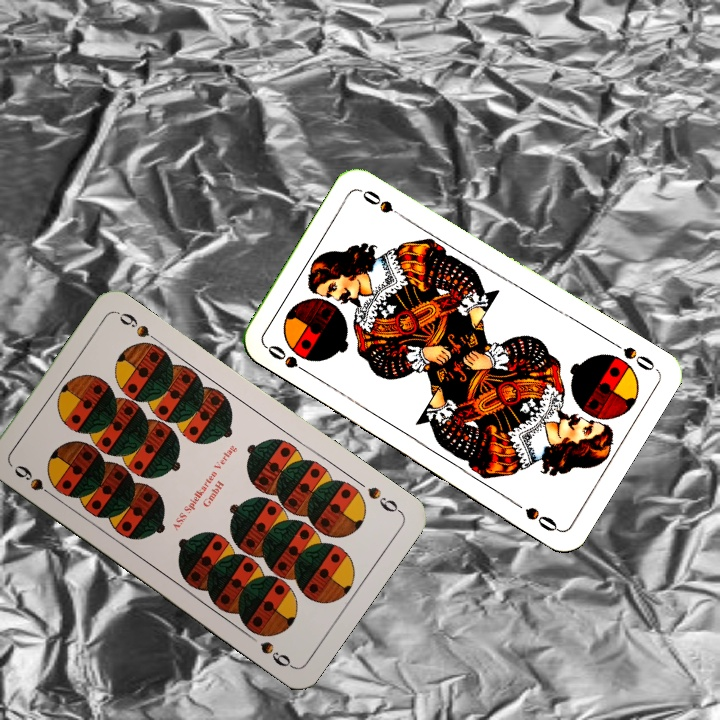S9: (10, 460, 59, 502), (363, 482, 404, 516)
SO: (262, 340, 316, 379), (606, 336, 659, 374)
